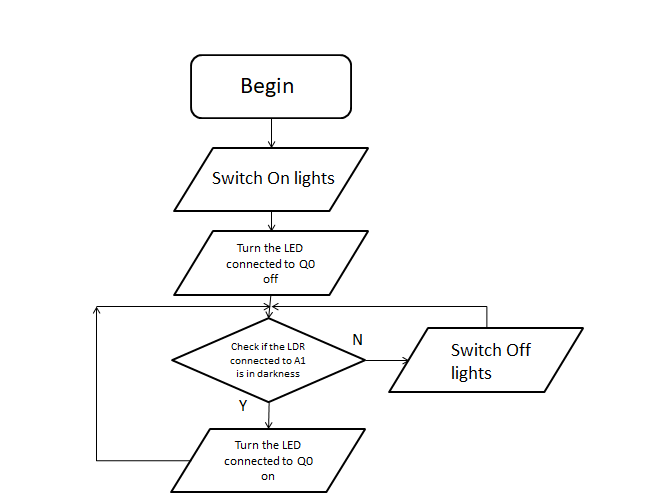arrow: (92, 306, 194, 466), (272, 301, 490, 331), (96, 302, 271, 311), (266, 114, 279, 149), (364, 357, 410, 366), (264, 398, 275, 428), (264, 294, 275, 319), (266, 209, 277, 231)
data: (386, 326, 588, 395), (172, 145, 373, 214), (171, 228, 372, 297), (167, 427, 369, 495)
decision: (169, 319, 370, 404)
process: (188, 52, 356, 120)
text: (222, 438, 316, 482), (226, 243, 319, 284), (448, 342, 532, 383), (229, 339, 310, 379), (210, 169, 337, 188), (241, 75, 296, 98), (350, 329, 366, 349), (237, 398, 249, 410)
